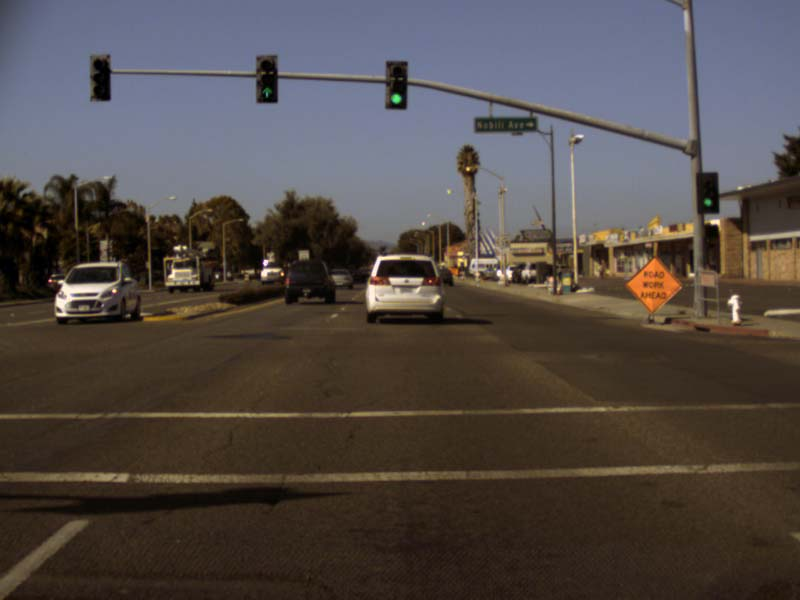Green: (383, 61, 406, 108), (254, 55, 277, 102), (697, 172, 718, 212)
